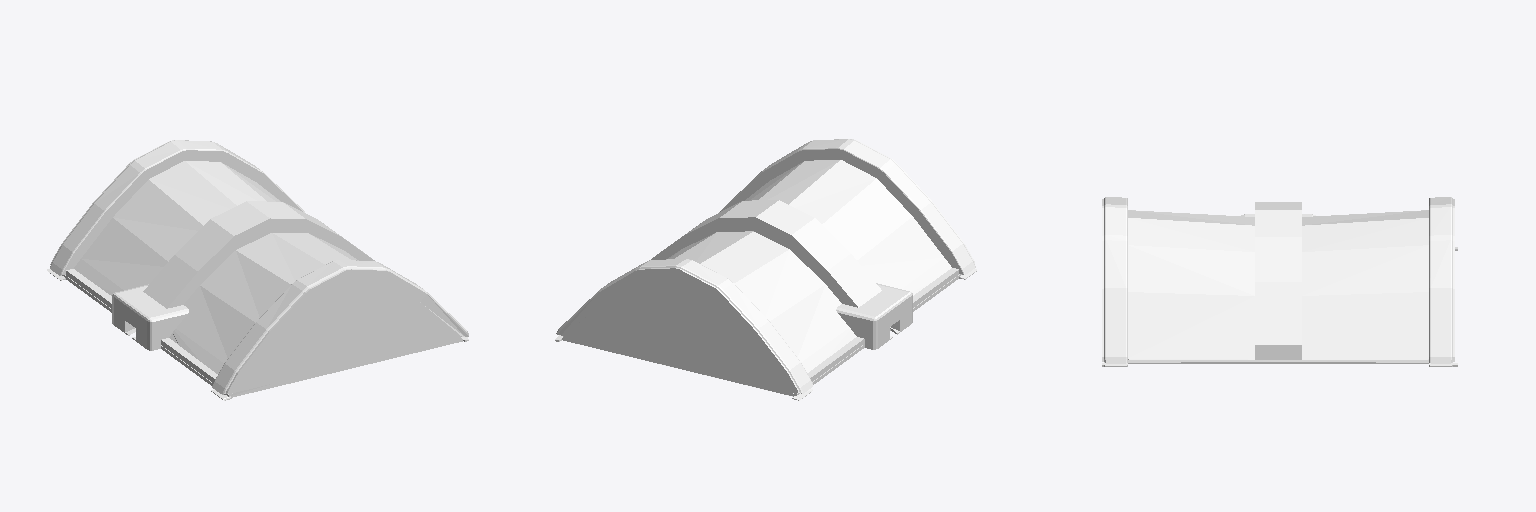
Rendered from BoxDoor.obj.
The picture shows the model from 3 angles: view 1: azimuth 30°, elevation 25°; view 2: azimuth 150°, elevation 25°; view 3: azimuth 270°, elevation 25°; orthographic projection.
Parts seen in each view (by area): view 1: BoxDoor; view 2: BoxDoor; view 3: BoxDoor.
Boxes of the visible parts, <box> form: BoxDoor: <box>47,140,468,400</box>; BoxDoor: <box>555,139,976,400</box>; BoxDoor: <box>1102,197,1457,366</box>.
Size of the model in its own units: 1.32 by 0.519 by 1.62.